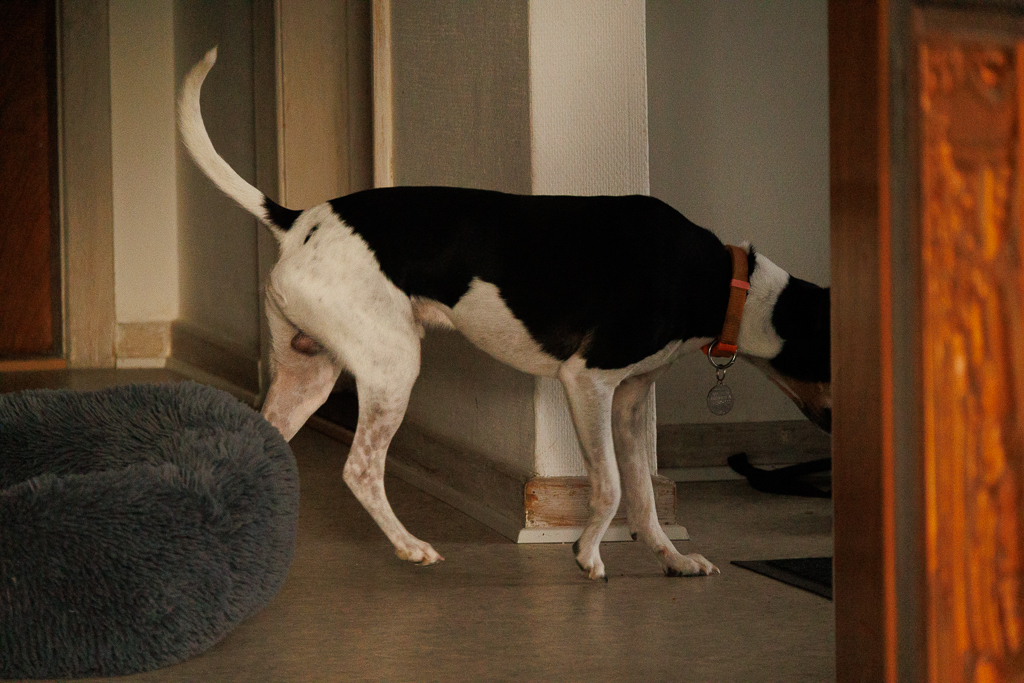Dog: (158, 40, 839, 588)
